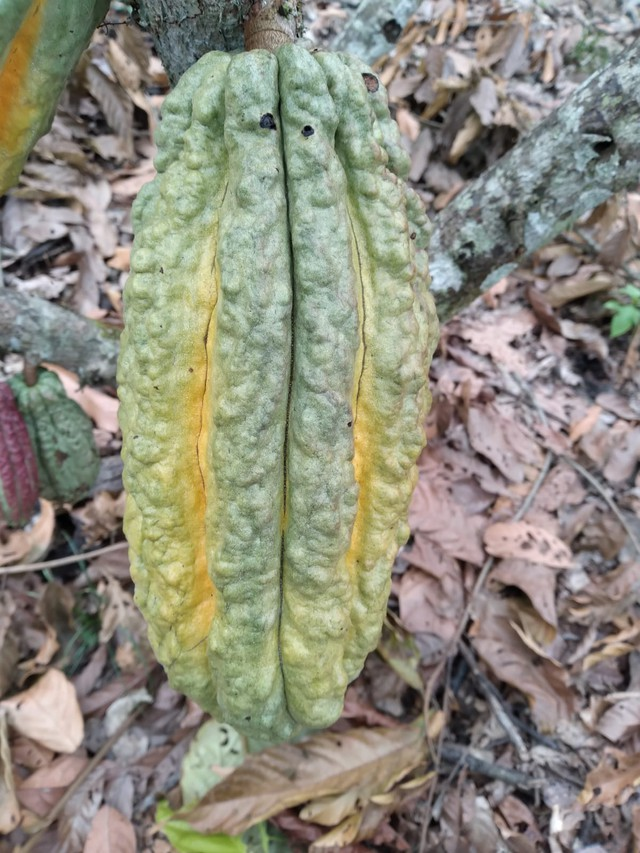Health: (110, 37, 444, 747)
